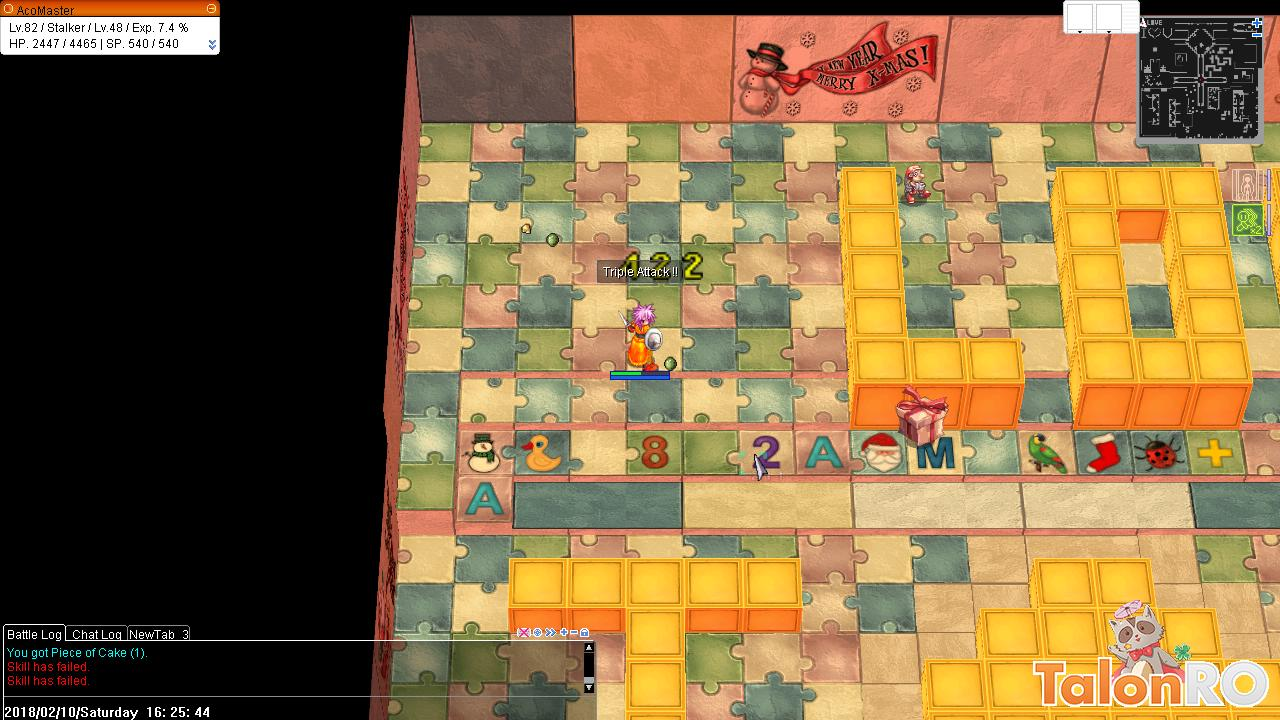loot: (515, 216, 532, 239), (540, 229, 562, 246), (662, 353, 678, 371)
myst_case: (890, 384, 950, 450)
